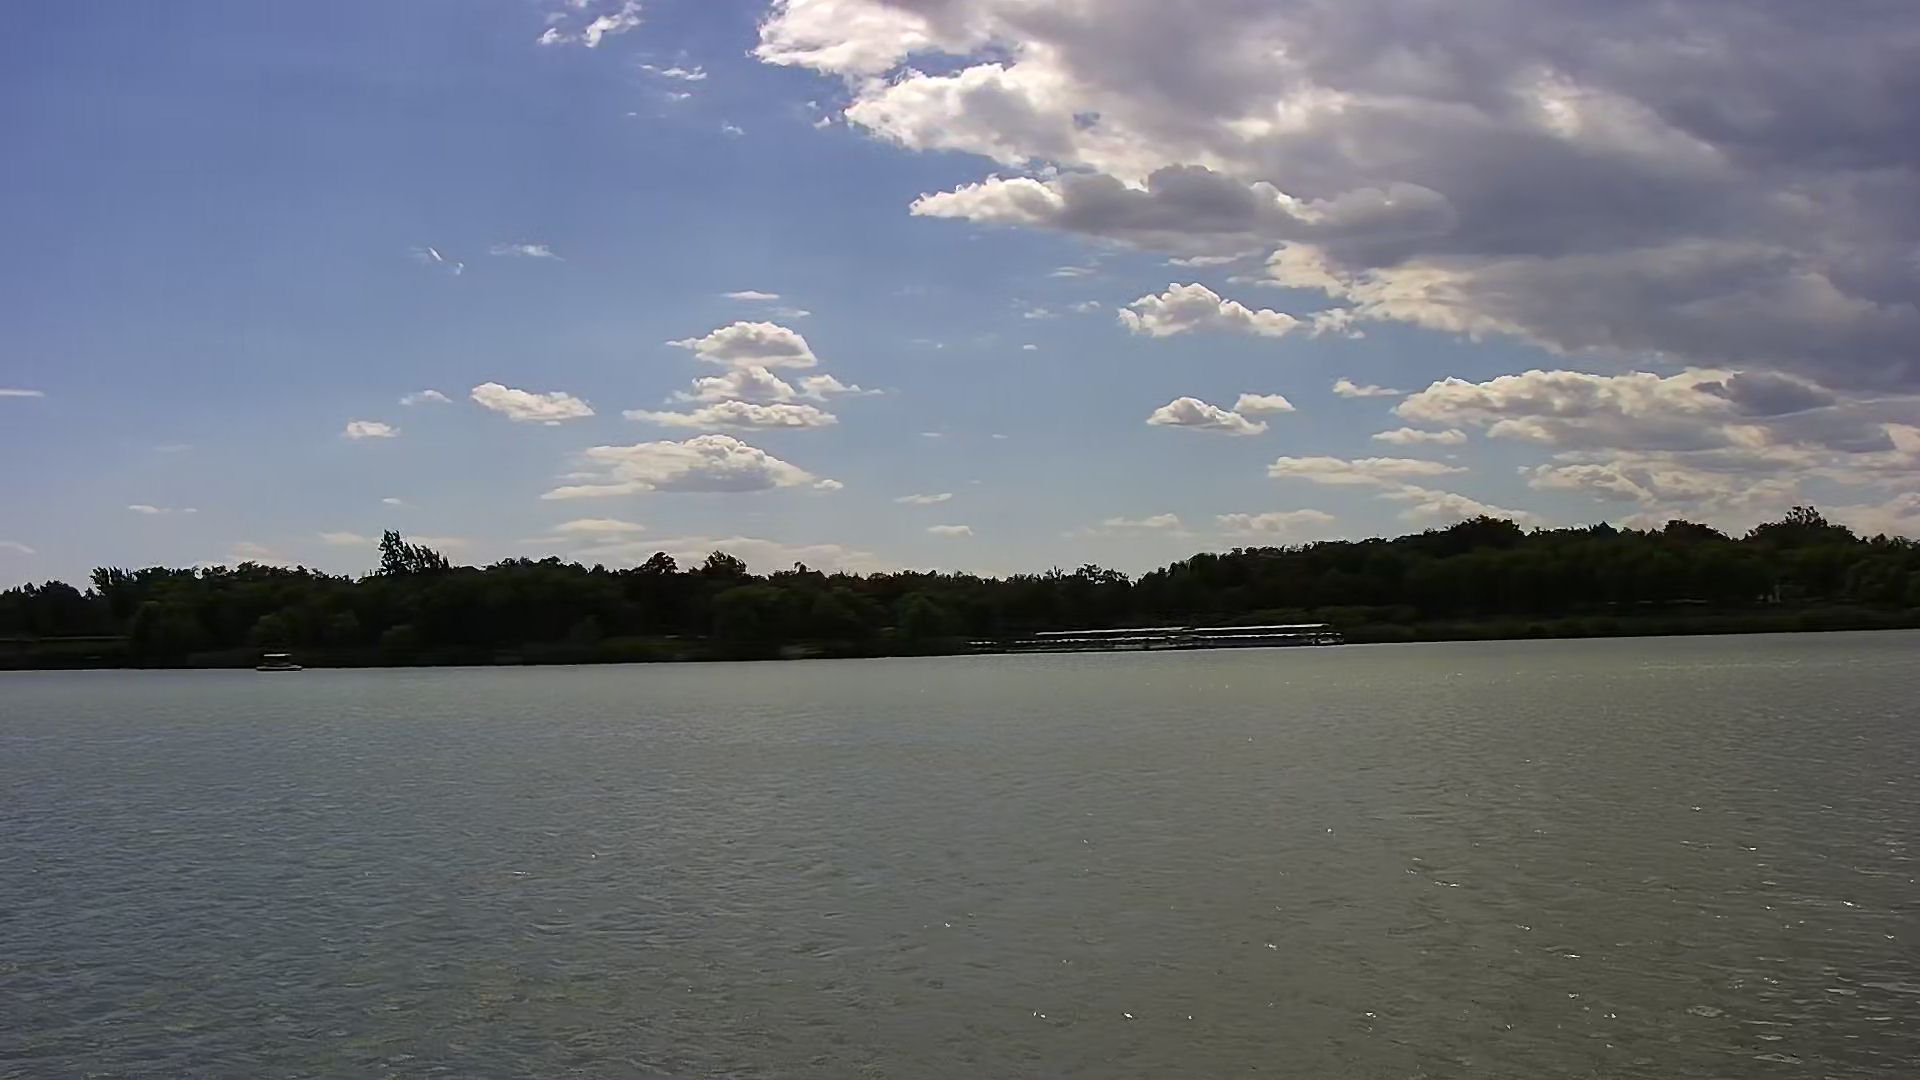boat: (255, 645, 301, 676)
harbor: (964, 615, 1342, 651)
